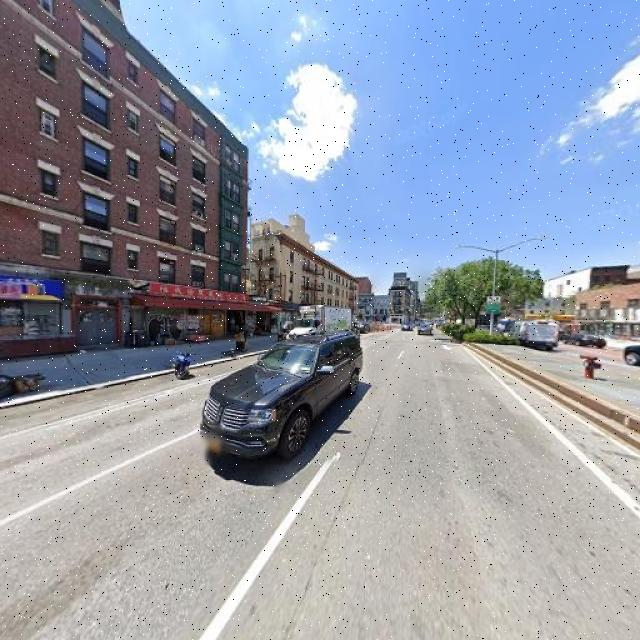Building: (1, 1, 247, 367), (283, 234, 358, 335), (582, 285, 640, 339)
